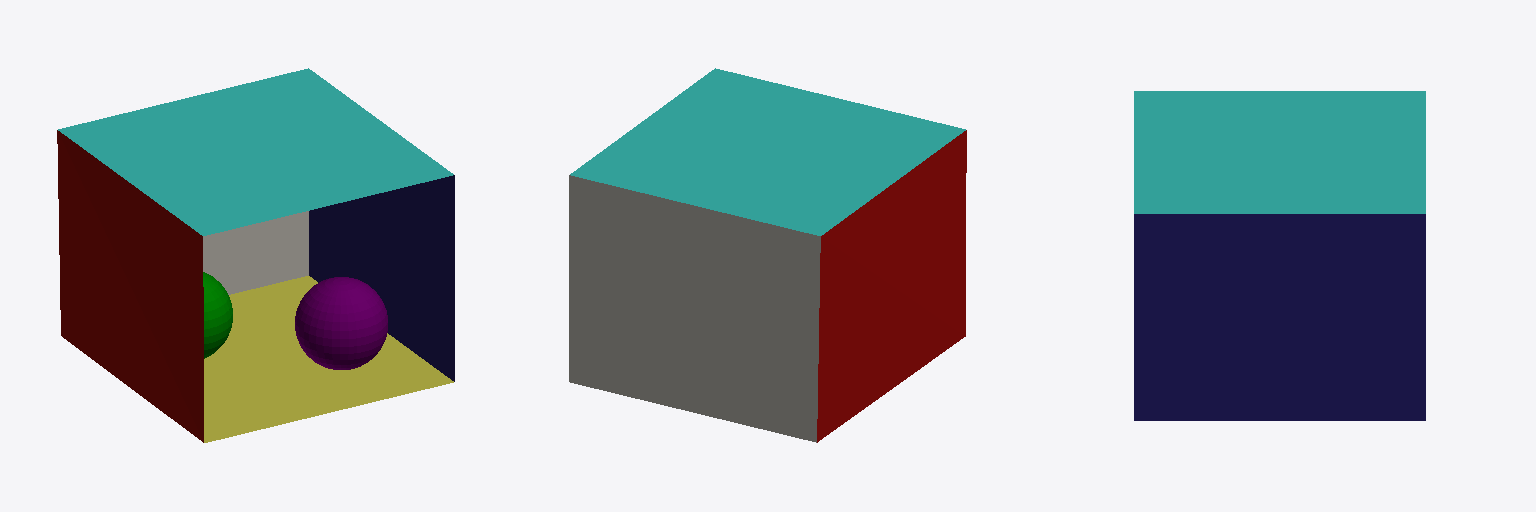
Rendered from CornellBox-Sphere.obj.
3 views of the same model, side by side, from view 1: azimuth 30°, elevation 25°; view 2: azimuth 150°, elevation 25°; view 3: azimuth 270°, elevation 25° (orthographic).
Visible parts, largest first — view 1: ceiling, leftWall, floor, rightWall, rightSphere, backWall, leftSphere; view 2: backWall, ceiling, leftWall; view 3: rightWall, ceiling.
Part boxes in pixels (bbox=[...]): ceiling: bbox=[58, 68, 453, 235]; leftWall: bbox=[57, 130, 203, 442]; floor: bbox=[204, 276, 453, 442]; rightWall: bbox=[309, 175, 454, 381]; rightSphere: bbox=[295, 277, 387, 369]; backWall: bbox=[203, 211, 308, 294]; leftSphere: bbox=[203, 272, 232, 358]; backWall: bbox=[569, 175, 820, 442]; ceiling: bbox=[570, 68, 965, 235]; leftWall: bbox=[817, 130, 966, 442]; rightWall: bbox=[1134, 214, 1425, 420]; ceiling: bbox=[1134, 91, 1425, 213].
Bounding box in the file's own units: 2.02 × 1.59 × 2.03.